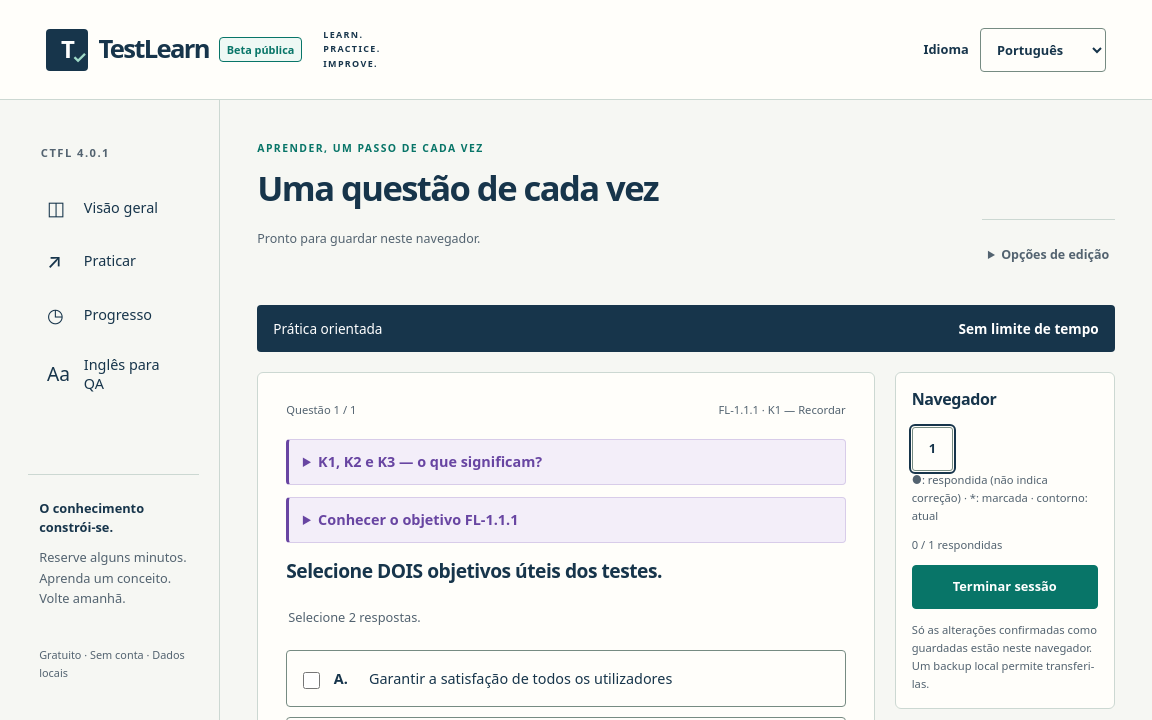
Test: learning workflows › contains modal keyboard focus and cancels with Escape without losing progress
This screenshot has width=1152, height=720.
Click the button "Terminar sessão". click: [1005, 587]
box: [912, 565, 1098, 609]
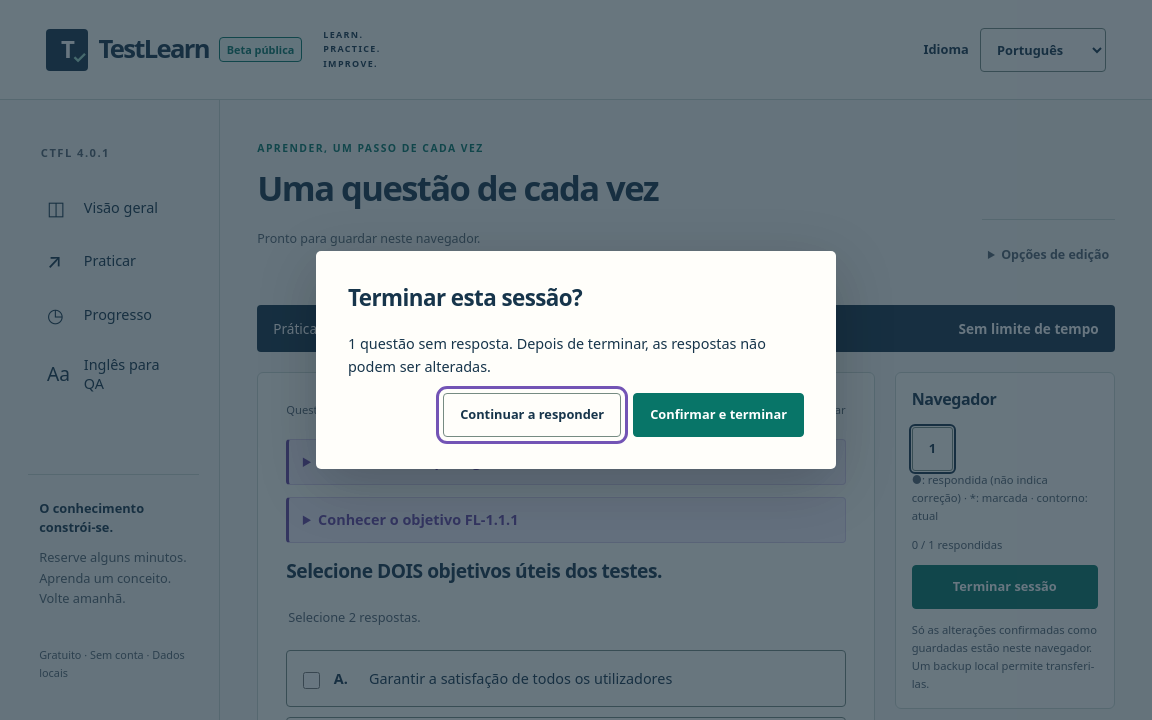
Press Shift+Tab
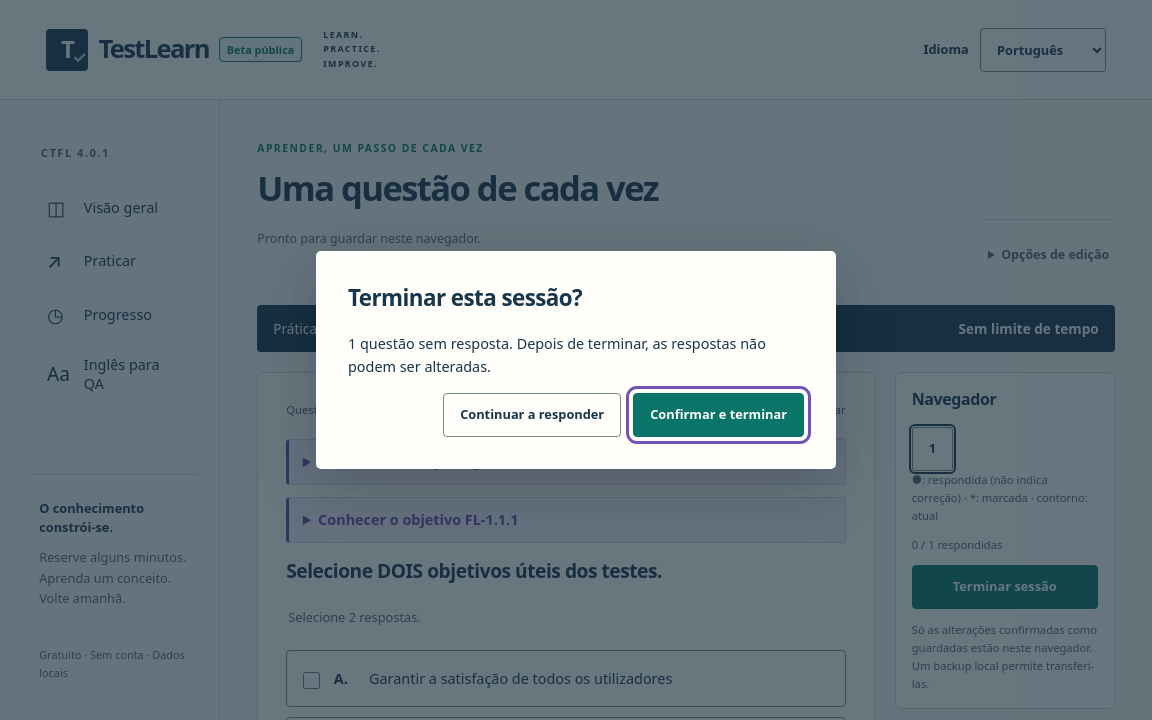
Press Escape
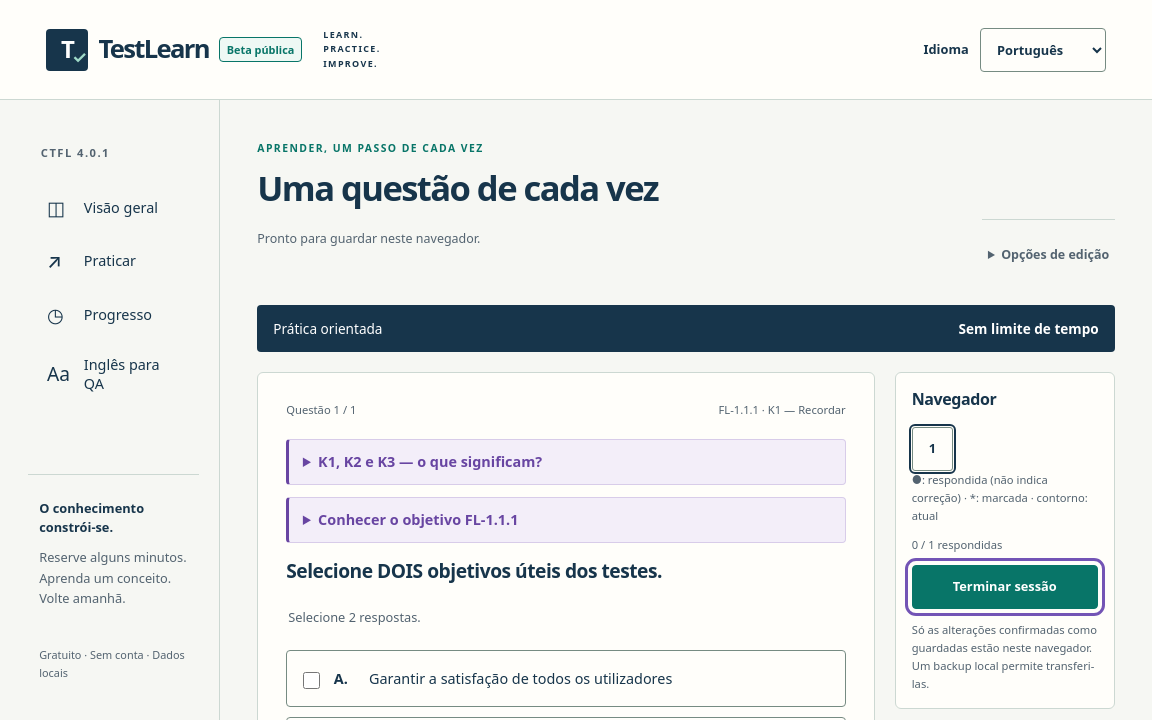
Check: the dialog is gone
